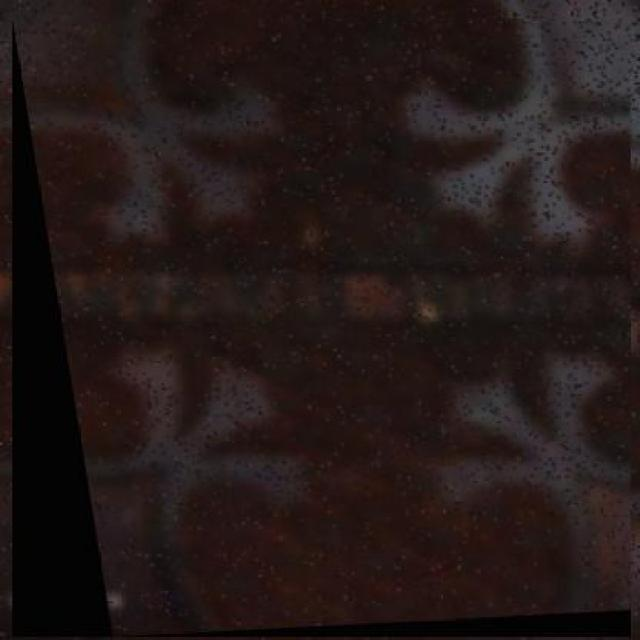Manhole: (12, 19, 631, 638)
